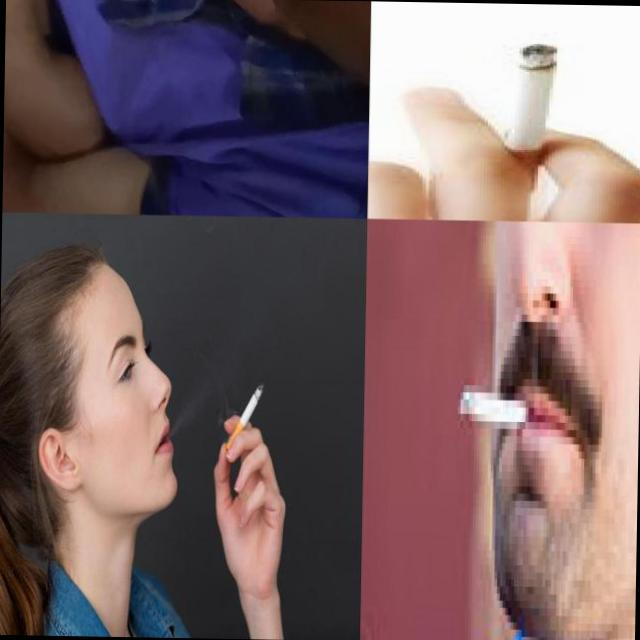smoke: (502, 42, 560, 192), (462, 378, 532, 422), (226, 383, 264, 451)
